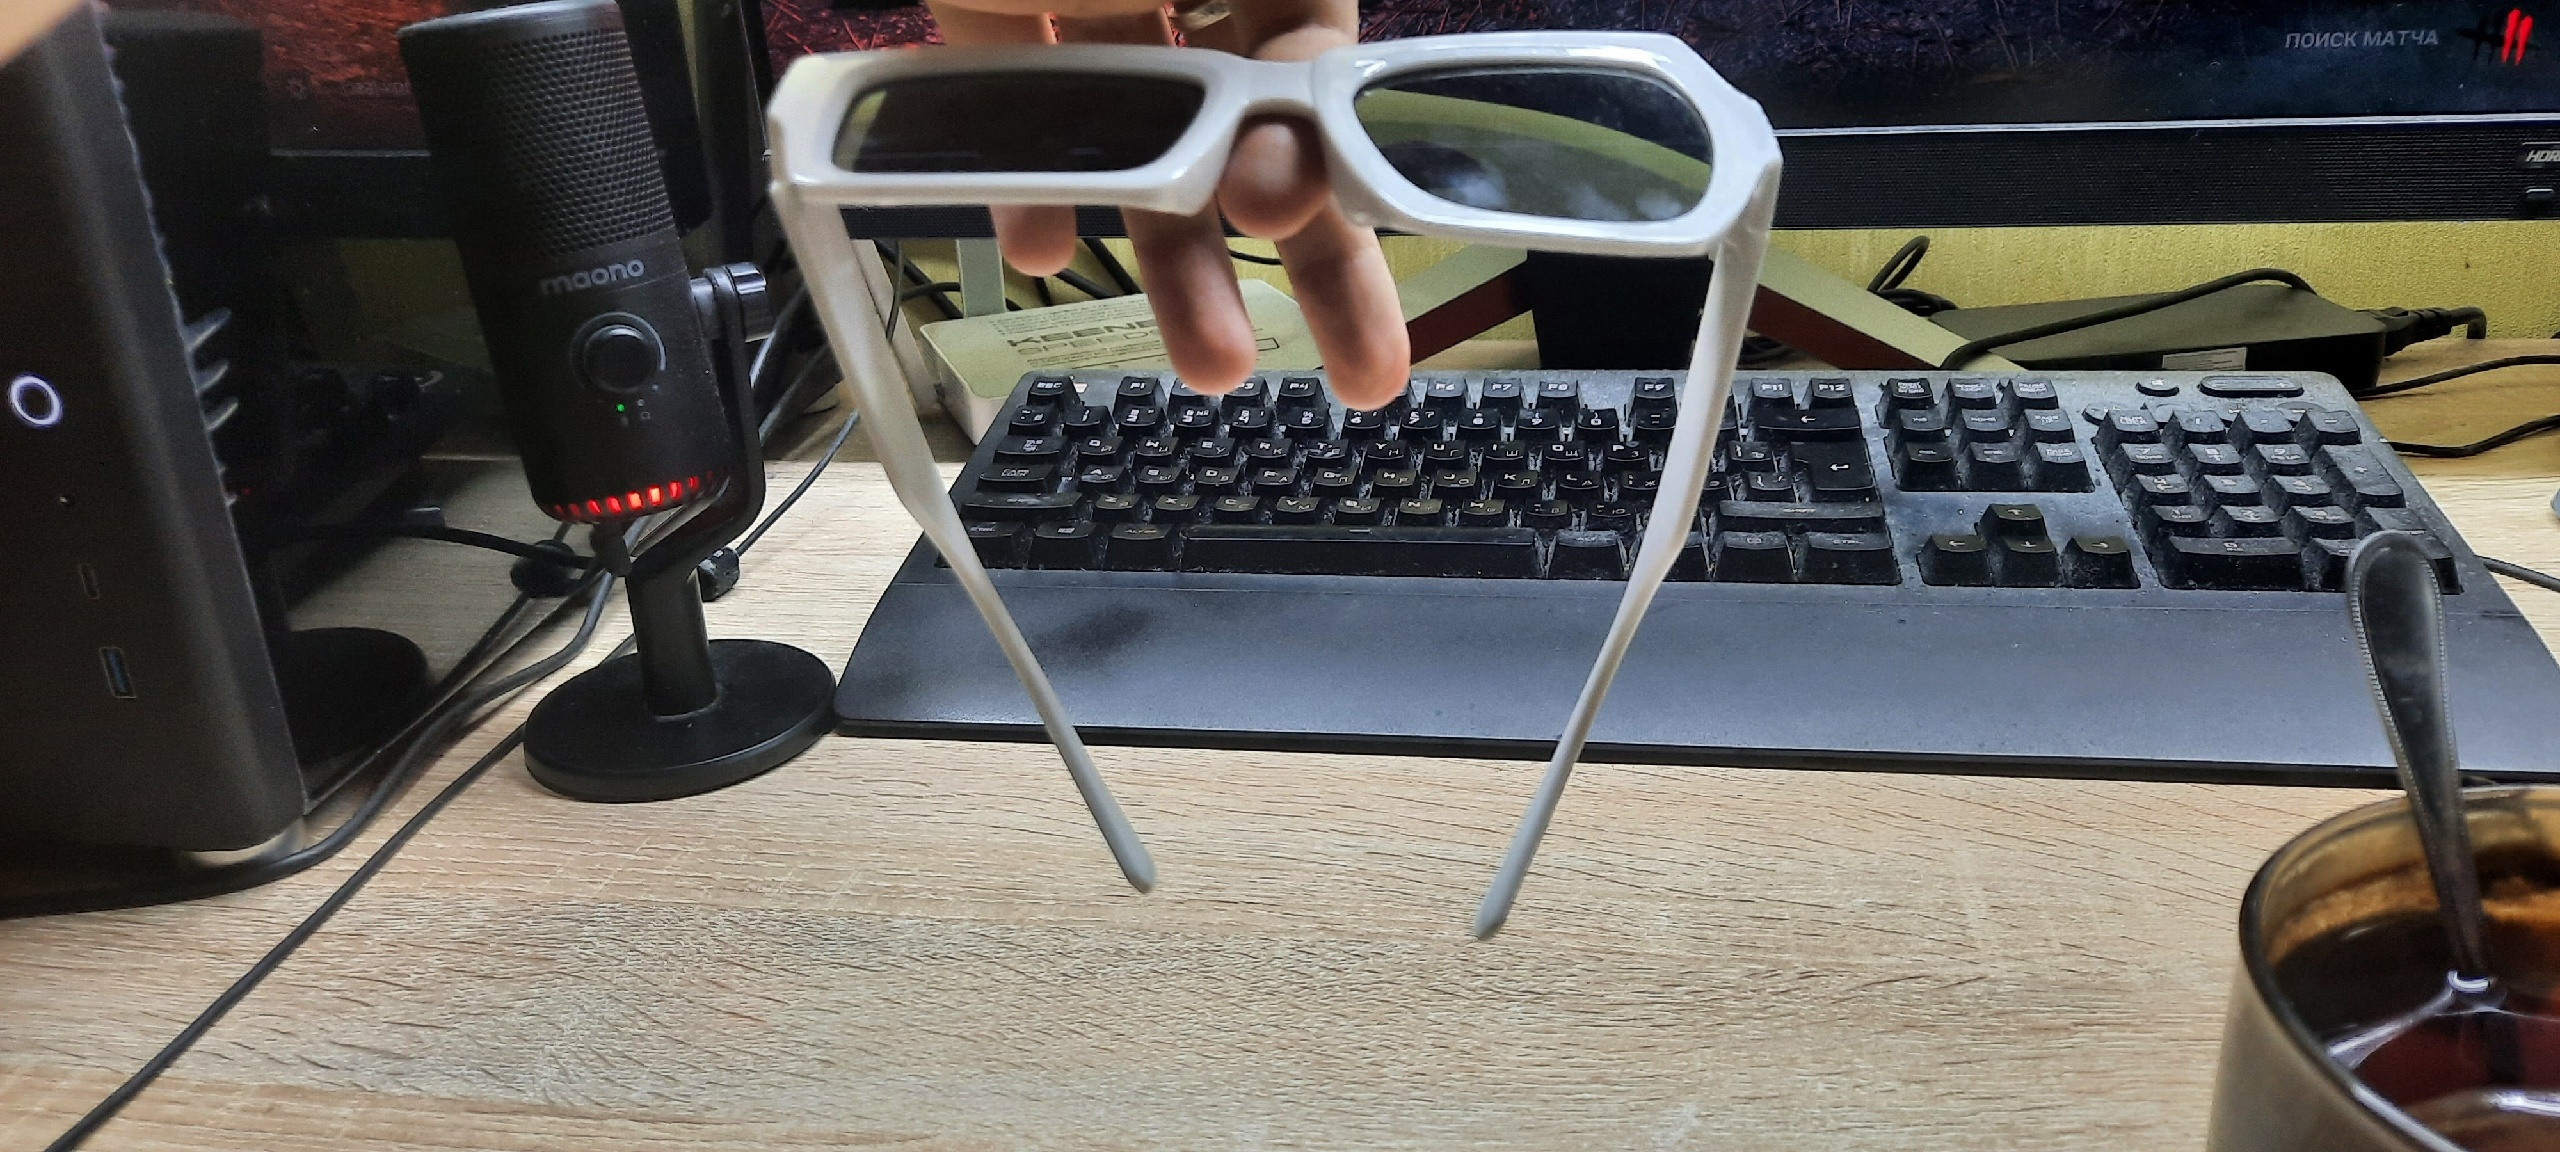glasses: (771, 34, 1780, 934)
